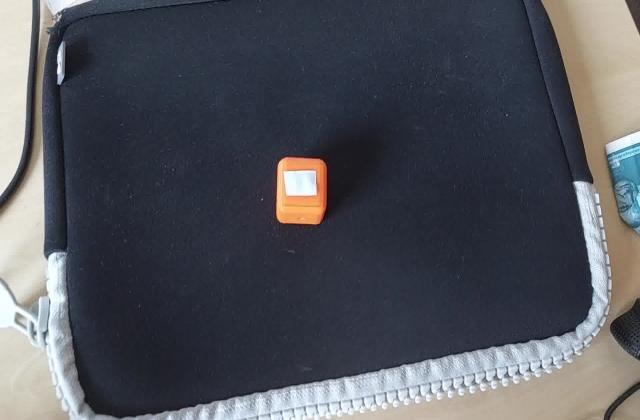sticker: (274, 158, 329, 228)
white: (284, 168, 322, 200)
